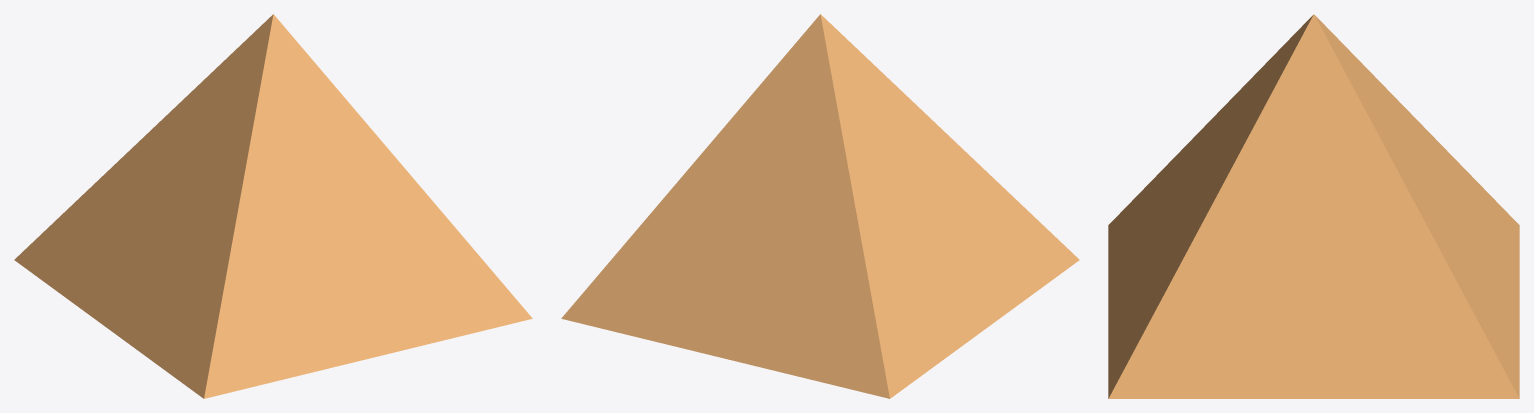
3 renders of one model, left to right at view 1: azimuth 30°, elevation 25°; view 2: azimuth 150°, elevation 25°; view 3: azimuth 270°, elevation 25°, orthographic. The views are drawn at different scales.
Bounding box in the file's own units: 2 × 1.6 × 2.
